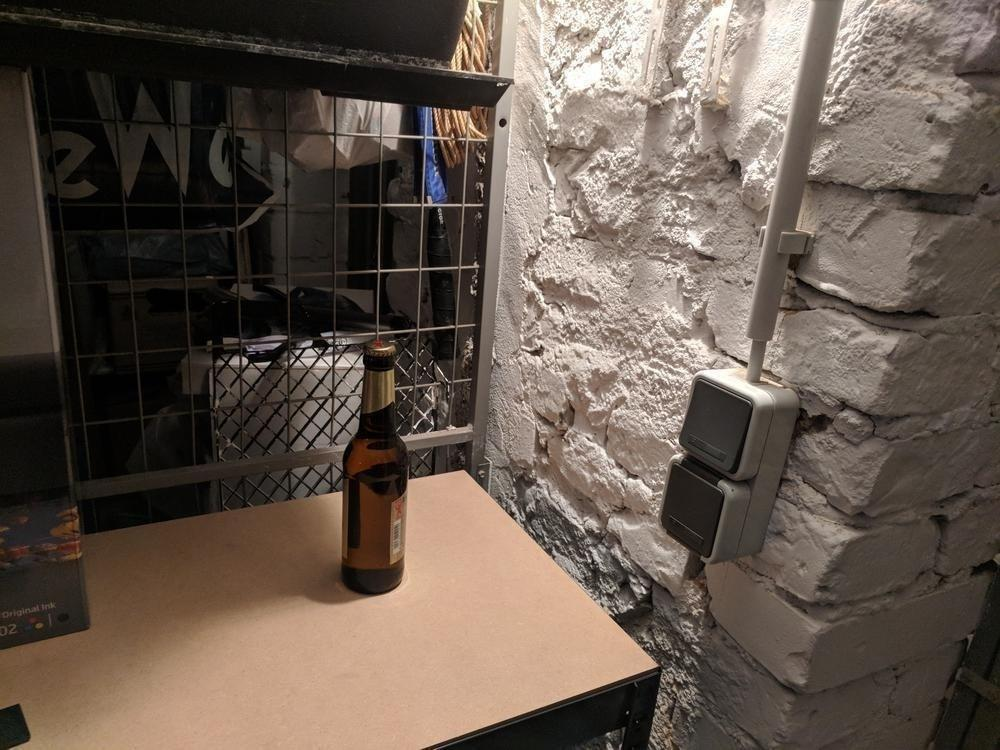bottle-glass: (339, 339, 410, 596)
